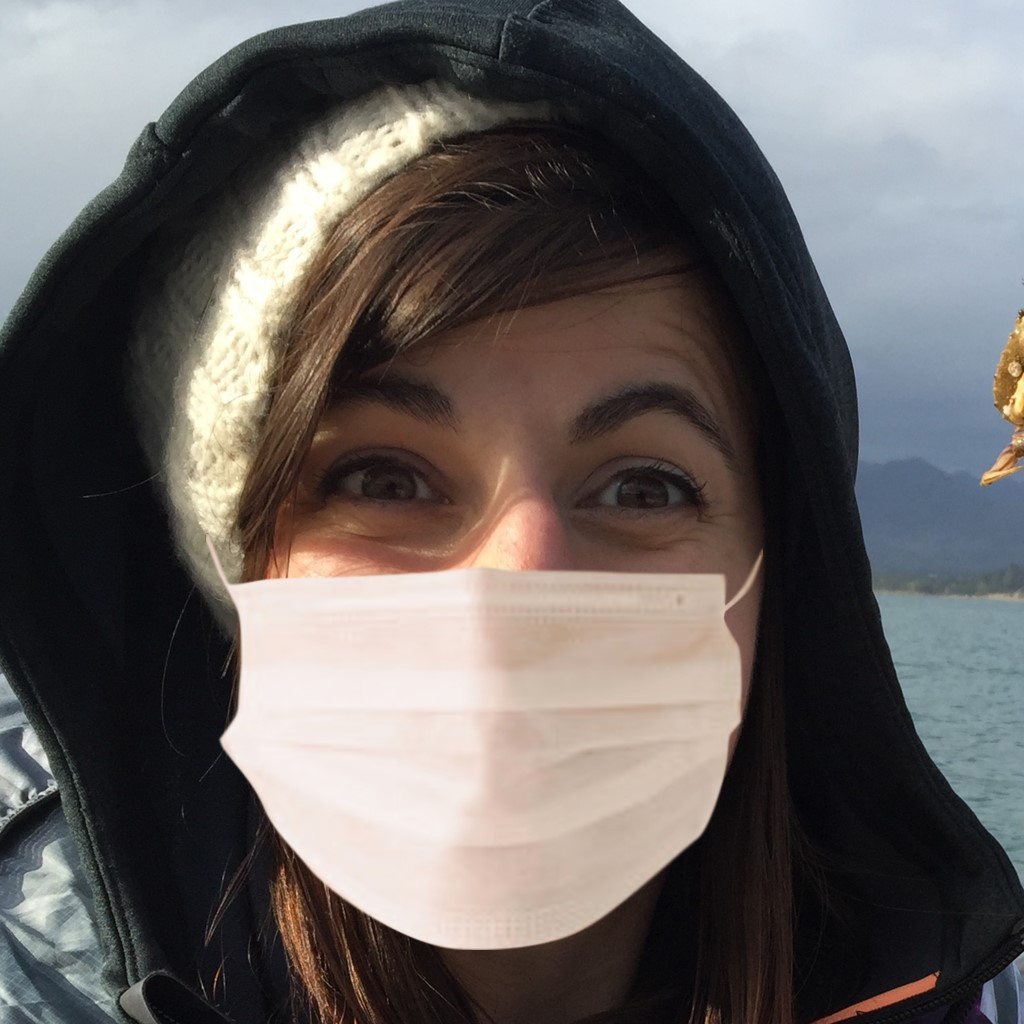con_mascara: (245, 254, 767, 921)
